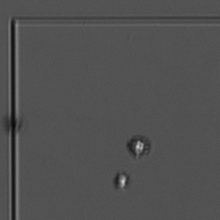Living Cell: (127, 133, 155, 161), (111, 167, 135, 191)
